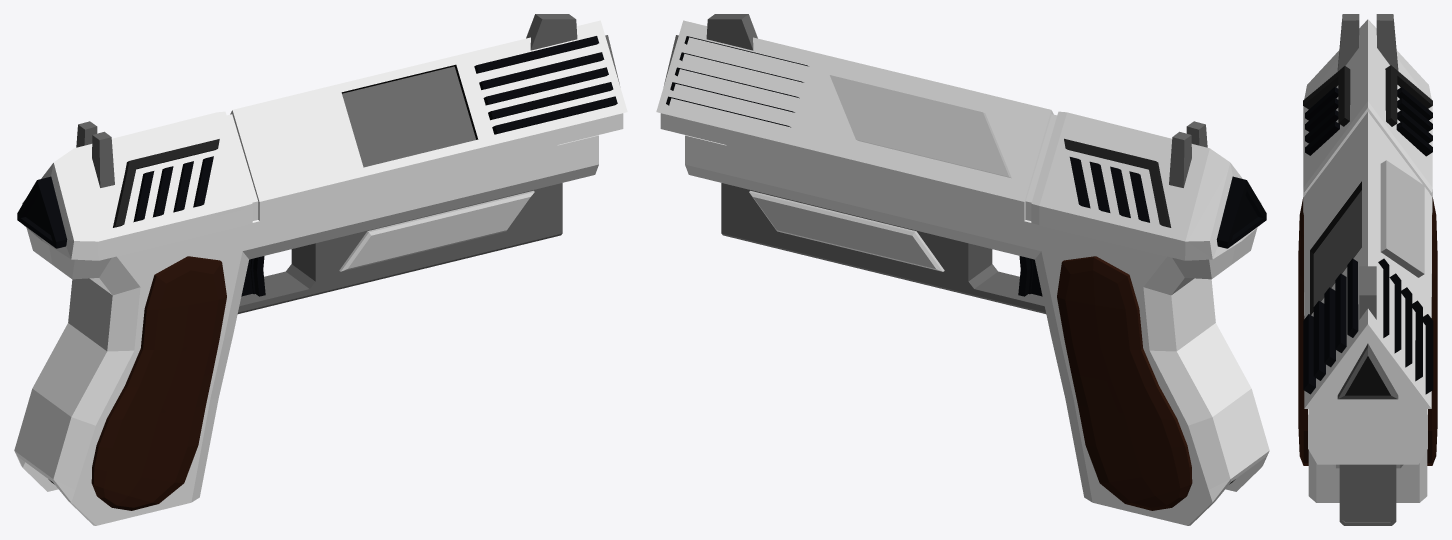
Rendered from Pistol_Pistol.FBX.
3 views of the same model, side by side, from view 1: azimuth 30°, elevation 25°; view 2: azimuth 150°, elevation 25°; view 3: azimuth 270°, elevation 25° (orthographic). The views are drawn at different scales.
Visible parts, largest first — view 1: Pistol_Pistol; view 2: Pistol_Pistol; view 3: Pistol_Pistol.
Part boxes in pixels (<box>): Pistol_Pistol: <box>14,14,627,525</box>; Pistol_Pistol: <box>656,14,1269,525</box>; Pistol_Pistol: <box>1298,14,1437,525</box>.
Bounding box in the file's own units: 182 × 32.32 × 114.
